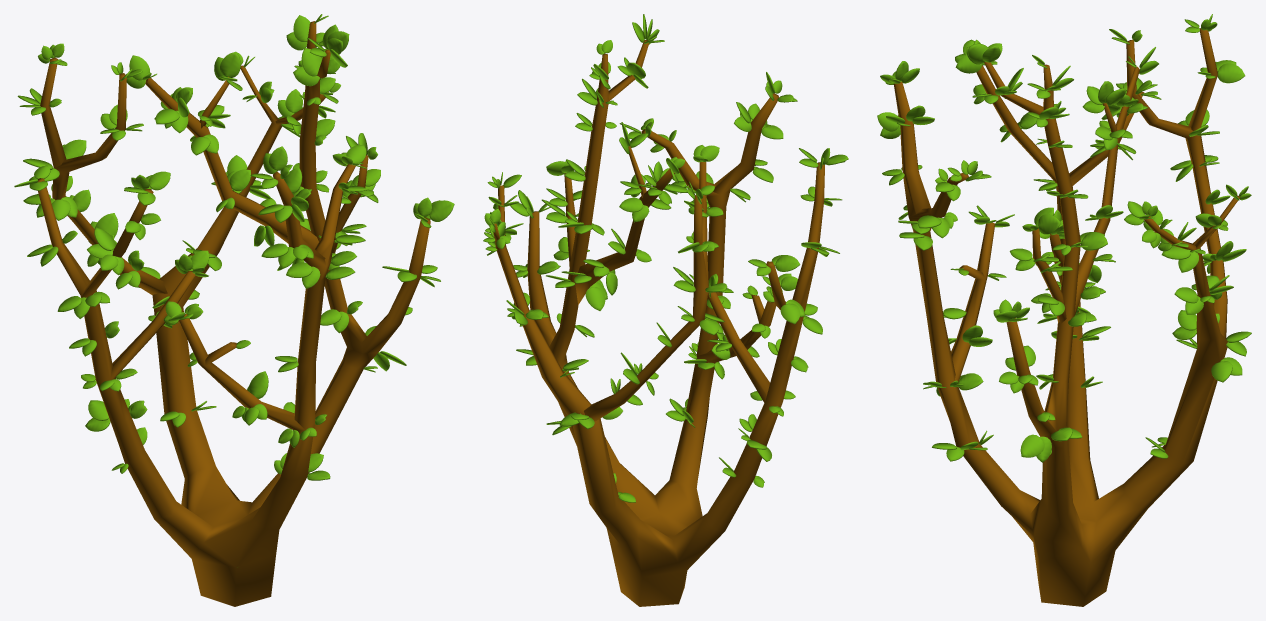
The model's file is Gtree_3.fbx.
3 views of the same model, side by side, from view 1: azimuth 30°, elevation 25°; view 2: azimuth 150°, elevation 25°; view 3: azimuth 270°, elevation 25° (orthographic). The views are drawn at different scales.
Visible parts, largest first — view 1: Gtree3; view 2: Gtree3; view 3: Gtree3.
Part boxes in pixels (x1=…): Gtree3: x1=14, y1=14, x2=454, y2=606; Gtree3: x1=483, y1=14, x2=848, y2=606; Gtree3: x1=877, y1=14, x2=1251, y2=606.
Size of the model in its own units: 275 by 408 by 240.
